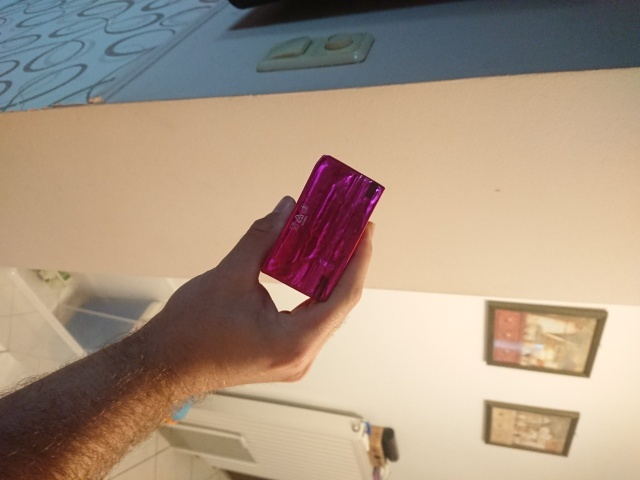Barcaffe Classic Original 225g: (257, 152, 388, 306)
